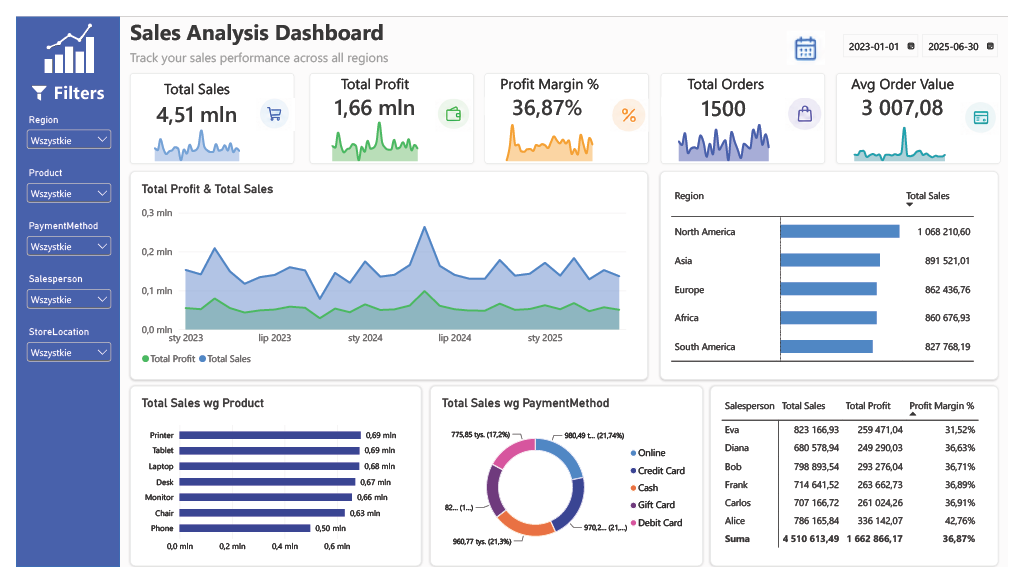

What the dashboard file says about the page in this screenshot:
{"tool":"powerbi","page":{"name":"Strona 1","canvas":[1480,820],"ordinal":0},"visuals":[{"type":"textbox","box":[170,0,386.7,47.8],"z":0},{"type":"textbox","box":[170,47.8,391.1,36.7],"z":1000},{"type":"shape","box":[0,0,155,820],"z":2000},{"type":"shape","box":[169.8,84.3,245,135],"z":3000},{"type":"shape","box":[438.3,84.3,245,135],"z":4000},{"type":"shape","box":[698.7,84.3,245,135],"z":5000},{"type":"shape","box":[962.1,84.3,245,135],"z":6000},{"type":"shape","box":[1223.6,84.3,245,135],"z":7000},{"type":"textbox","box":[181,92.3,177.9,40.7],"z":8000},{"type":"textbox","box":[445.7,84.3,179.3,29.3],"z":9000},{"type":"textbox","box":[705.6,84.3,180.7,29.3],"z":10000},{"type":"textbox","box":[969.1,84.3,180,29.3],"z":11000},{"type":"textbox","box":[1234,84,178,30],"z":12000},{"type":"cardVisual","fields":{"Data":["Measure.Total Sales"]},"box":[181,121.6,177.9,40.7],"z":13000},{"type":"cardVisual","fields":{"Data":["Measure.Total Profit"]},"box":[445.7,113.6,179.3,38.6],"z":14000},{"type":"cardVisual","fields":{"Data":["Measure.Profit Margin %"]},"box":[699.1,113.6,187.1,38.6],"z":15000},{"type":"cardVisual","fields":{"Data":["Measure.Total Orders"]},"box":[962.7,113.6,186.4,40.7],"z":16000},{"type":"cardVisual","fields":{"Data":["Measure.Average Order Value"]},"box":[1234,114,177,38],"z":17000},{"type":"image","box":[358.2,120.9,57.4,49.5],"z":18000},{"type":"image","box":[624.5,121.8,57.4,49.5],"z":19000},{"type":"image","box":[886.4,121.8,57.4,49.5],"z":20000},{"type":"image","box":[1147.3,120.9,57.4,49.5],"z":21000},{"type":"image","box":[1408.2,126.4,57.4,49.5],"z":22000},{"type":"areaChart","fields":{"Category":["Calendar.Month Year.Odmiana.Hierarchia dat.Rok","Calendar.Month Year.Odmiana.Hierarchia dat.Miesiąc"],"Y":["Measure.Total Sales"]},"box":[181,146,178,85],"z":23000},{"type":"areaChart","fields":{"Category":["Calendar.Month Year.Odmiana.Hierarchia dat.Rok","Calendar.Month Year.Odmiana.Hierarchia dat.Miesiąc"],"Y":["Measure.Total Profit"]},"box":[446,134,179,97],"z":24000},{"type":"areaChart","fields":{"Category":["Calendar.Month Year.Odmiana.Hierarchia dat.Rok","Calendar.Month Year.Odmiana.Hierarchia dat.Miesiąc"],"Y":["Measure.Profit Margin %"]},"box":[706,138,180,93],"z":25000},{"type":"areaChart","fields":{"Category":["Calendar.Month Year.Odmiana.Hierarchia dat.Rok","Calendar.Month Year.Odmiana.Hierarchia dat.Miesiąc"],"Y":["Measure.Total Orders"]},"box":[963,138,186,93],"z":26000},{"type":"areaChart","fields":{"Category":["Calendar.Month Year.Odmiana.Hierarchia dat.Rok","Calendar.Month Year.Odmiana.Hierarchia dat.Miesiąc"],"Y":["Measure.Average Order Value"]},"box":[1225,142,187,89],"z":27000},{"type":"areaChart","title":"Total Profit & Total Sales","fields":{"Category":["Calendar.Month Year.Odmiana.Hierarchia dat.Rok","Calendar.Month Year.Odmiana.Hierarchia dat.Kwartał","Calendar.Month Year.Odmiana.Hierarchia dat.Miesiąc","Calendar.Month Year.Odmiana.Hierarchia dat.Dzień"],"Y":["Measure.Total Profit","Measure.Total Sales"]},"box":[170,230,773.3,311.1],"z":28000},{"type":"pivotTable","fields":{"Rows":["Sales.Region"],"Values":["Measure.Sales Bar","Measure.Total Sales"]},"box":[961.2,230,505,311.2],"z":29000},{"type":"clusteredBarChart","fields":{"Category":["Sales.Product"],"Y":["Measure.Total Sales"]},"box":[170,550,435,268.8],"z":30000},{"type":"donutChart","fields":{"Category":["Sales.PaymentMethod"],"Y":["Measure.Total Sales"]},"box":[617.5,550,407.5,268.8],"z":31000},{"type":"pivotTable","fields":{"Rows":["Sales.Salesperson"],"Values":["Measure.Total Sales","Measure.Total Profit","Measure.Profit Margin %"]},"box":[1036.2,550,430,268.8],"z":32000},{"type":"slicer","fields":{"Values":["Sales.Region"]},"box":[11.2,145.2,135.7,60],"z":33000},{"type":"slicer","fields":{"Values":["Sales.Product"]},"box":[11.2,224.5,135.7,60],"z":34000},{"type":"slicer","fields":{"Values":["Sales.PaymentMethod"]},"box":[11.2,303.8,135.7,60],"z":35000},{"type":"slicer","fields":{"Values":["Sales.Salesperson"]},"box":[11.2,383.1,135.7,60],"z":36000},{"type":"slicer","fields":{"Values":["Sales.StoreLocation"]},"box":[11.2,462.4,135.7,60],"z":37000},{"type":"textbox","box":[55.7,92.9,88.6,41.4],"z":39000},{"type":"image","box":[12.9,101.4,42.9,24.3],"z":40000},{"type":"image","box":[11.4,7.1,135.7,77.1],"z":41000},{"type":"slicer","fields":{"Values":["Calendar.Date"]},"box":[1225.7,21.4,240,50],"z":42000},{"type":"image","box":[1150,21.4,57.4,49.5],"z":43000}]}

Visuals, with their boxes in screenshot pixels (x1, y1, x2, y2), scaled from the page's 1480x820 canvas onto the 1024x583 screenshot:
textbox: <region>118, 0, 385, 34</region>
textbox: <region>118, 34, 388, 60</region>
shape: <region>0, 0, 107, 582</region>
shape: <region>117, 60, 287, 156</region>
shape: <region>303, 60, 473, 156</region>
shape: <region>483, 60, 653, 156</region>
shape: <region>666, 60, 835, 156</region>
shape: <region>847, 60, 1016, 156</region>
textbox: <region>125, 66, 248, 95</region>
textbox: <region>308, 60, 432, 81</region>
textbox: <region>488, 60, 613, 81</region>
textbox: <region>671, 60, 795, 81</region>
textbox: <region>854, 60, 977, 81</region>
cardVisual - Measure.Total Sales: <region>125, 86, 248, 115</region>
cardVisual - Measure.Total Profit: <region>308, 81, 432, 108</region>
cardVisual - Measure.Profit Margin %: <region>484, 81, 613, 108</region>
cardVisual - Measure.Total Orders: <region>666, 81, 795, 110</region>
cardVisual - Measure.Average Order Value: <region>854, 81, 976, 108</region>
image: <region>248, 86, 288, 121</region>
image: <region>432, 87, 472, 122</region>
image: <region>613, 87, 653, 122</region>
image: <region>794, 86, 834, 121</region>
image: <region>974, 90, 1014, 125</region>
areaChart - Calendar.Month Year.Odmiana.Hierarchia dat.Rok x Calendar.Month Year.Odmiana.Hierarchia dat.Miesiąc: <region>125, 104, 248, 164</region>
areaChart - Calendar.Month Year.Odmiana.Hierarchia dat.Rok x Calendar.Month Year.Odmiana.Hierarchia dat.Miesiąc: <region>309, 95, 432, 164</region>
areaChart - Calendar.Month Year.Odmiana.Hierarchia dat.Rok x Calendar.Month Year.Odmiana.Hierarchia dat.Miesiąc: <region>488, 98, 613, 164</region>
areaChart - Calendar.Month Year.Odmiana.Hierarchia dat.Rok x Calendar.Month Year.Odmiana.Hierarchia dat.Miesiąc: <region>666, 98, 795, 164</region>
areaChart - Calendar.Month Year.Odmiana.Hierarchia dat.Rok x Calendar.Month Year.Odmiana.Hierarchia dat.Miesiąc: <region>848, 101, 977, 164</region>
"Total Profit & Total Sales" areaChart: <region>118, 164, 653, 385</region>
pivotTable - Sales.Region x Measure.Sales Bar: <region>665, 164, 1014, 385</region>
clusteredBarChart - Sales.Product x Measure.Total Sales: <region>118, 391, 419, 582</region>
donutChart - Sales.PaymentMethod x Measure.Total Sales: <region>427, 391, 709, 582</region>
pivotTable - Sales.Salesperson x Measure.Total Sales: <region>717, 391, 1014, 582</region>
slicer - Sales.Region: <region>8, 103, 102, 146</region>
slicer - Sales.Product: <region>8, 160, 102, 202</region>
slicer - Sales.PaymentMethod: <region>8, 216, 102, 259</region>
slicer - Sales.Salesperson: <region>8, 272, 102, 315</region>
slicer - Sales.StoreLocation: <region>8, 329, 102, 371</region>
textbox: <region>39, 66, 100, 95</region>
image: <region>9, 72, 39, 89</region>
image: <region>8, 5, 102, 60</region>
slicer - Calendar.Date: <region>848, 15, 1014, 51</region>
image: <region>796, 15, 835, 50</region>
